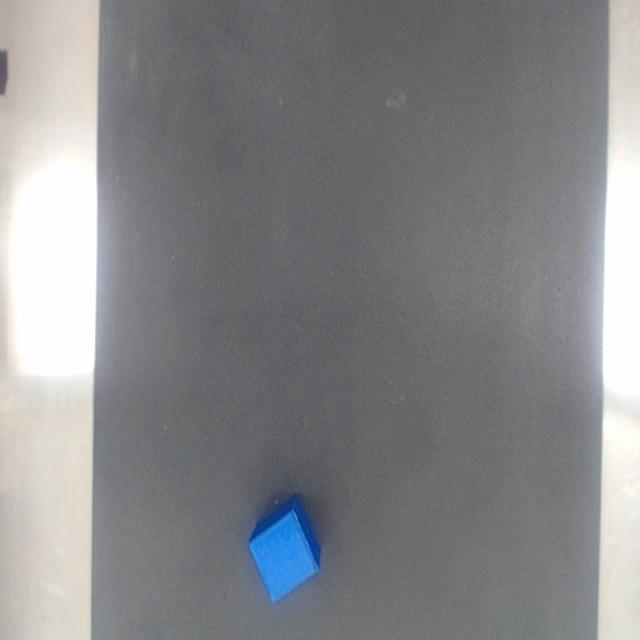Azul: (249, 496, 320, 603)
